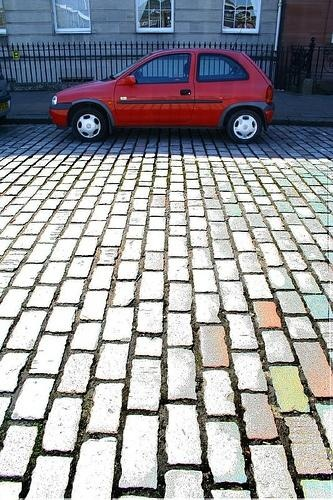car: (49, 46, 280, 147)
